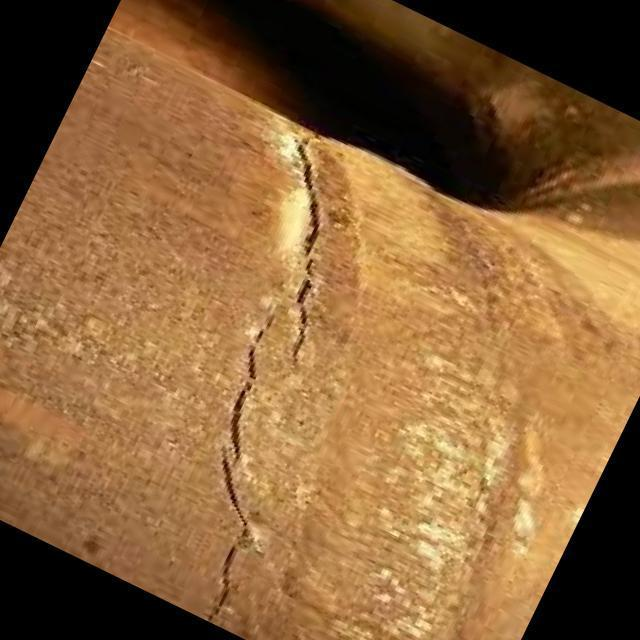defect: (195, 299, 279, 627), (283, 128, 327, 382)
